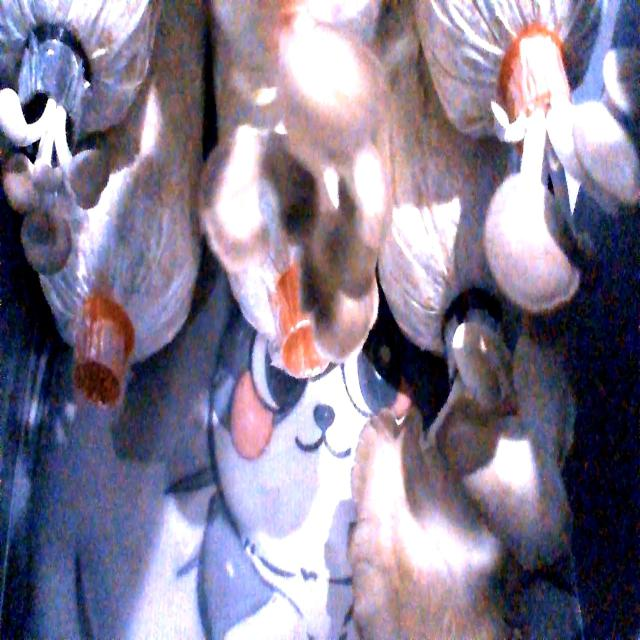big: (335, 295, 576, 640), (184, 34, 406, 356), (476, 52, 640, 321)
nfound: (70, 323, 130, 438)
small: (0, 78, 117, 270)
